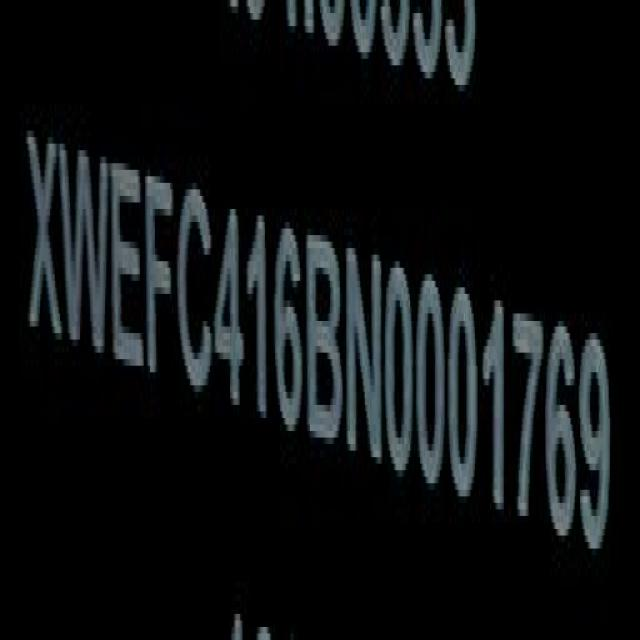0: (386, 249, 417, 487), (449, 276, 479, 512), (416, 262, 446, 496)
1: (482, 288, 507, 518), (248, 198, 271, 432)
4: (214, 185, 245, 422)
6: (272, 211, 304, 440), (548, 311, 579, 545)
7: (512, 294, 542, 543)
9: (580, 324, 612, 560)
B: (306, 222, 344, 456)
C: (178, 166, 216, 408)
E: (110, 139, 145, 391)
F: (144, 152, 176, 404)
N: (343, 227, 385, 484)
W: (59, 120, 110, 378)
X: (24, 111, 62, 362)
